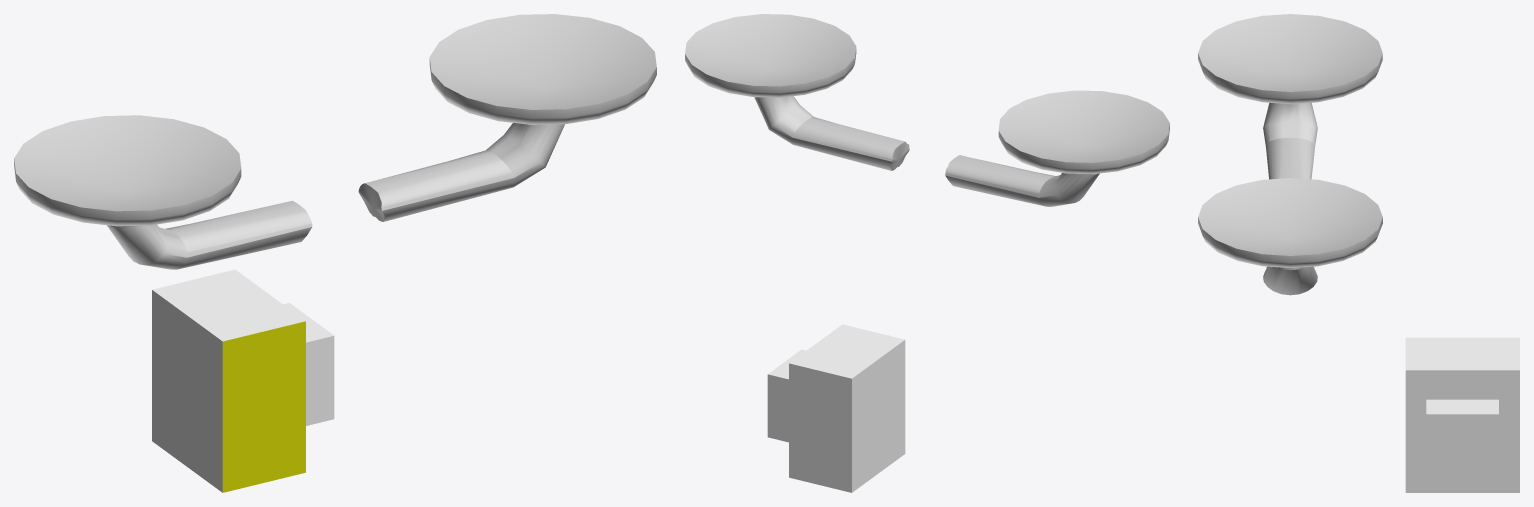
Rendered from Satellite Kit radio 2.glb.
The picture shows the model from 3 angles, left to right: view 1: azimuth 30°, elevation 25°; view 2: azimuth 150°, elevation 25°; view 3: azimuth 270°, elevation 25°; orthographic projection. The views are drawn at different scales.
Visible parts, largest first — view 1: pCube1, SatRadioDish1, SatRadioDish2; view 2: pCube1, SatRadioDish1, SatRadioDish2; view 3: pCube1, SatRadioDish2, SatRadioDish1.
Boxes of the visible parts, x1,y1,x2,y2 form: pCube1: [152, 269, 334, 492]; SatRadioDish1: [358, 14, 656, 221]; SatRadioDish2: [14, 115, 312, 269]; pCube1: [767, 324, 905, 492]; SatRadioDish1: [685, 14, 909, 170]; SatRadioDish2: [945, 90, 1169, 206]; pCube1: [1405, 337, 1519, 492]; SatRadioDish2: [1198, 14, 1382, 179]; SatRadioDish1: [1198, 178, 1382, 295].
Size of the model in its own units: 0.062 by 0.0408 by 0.0348.
